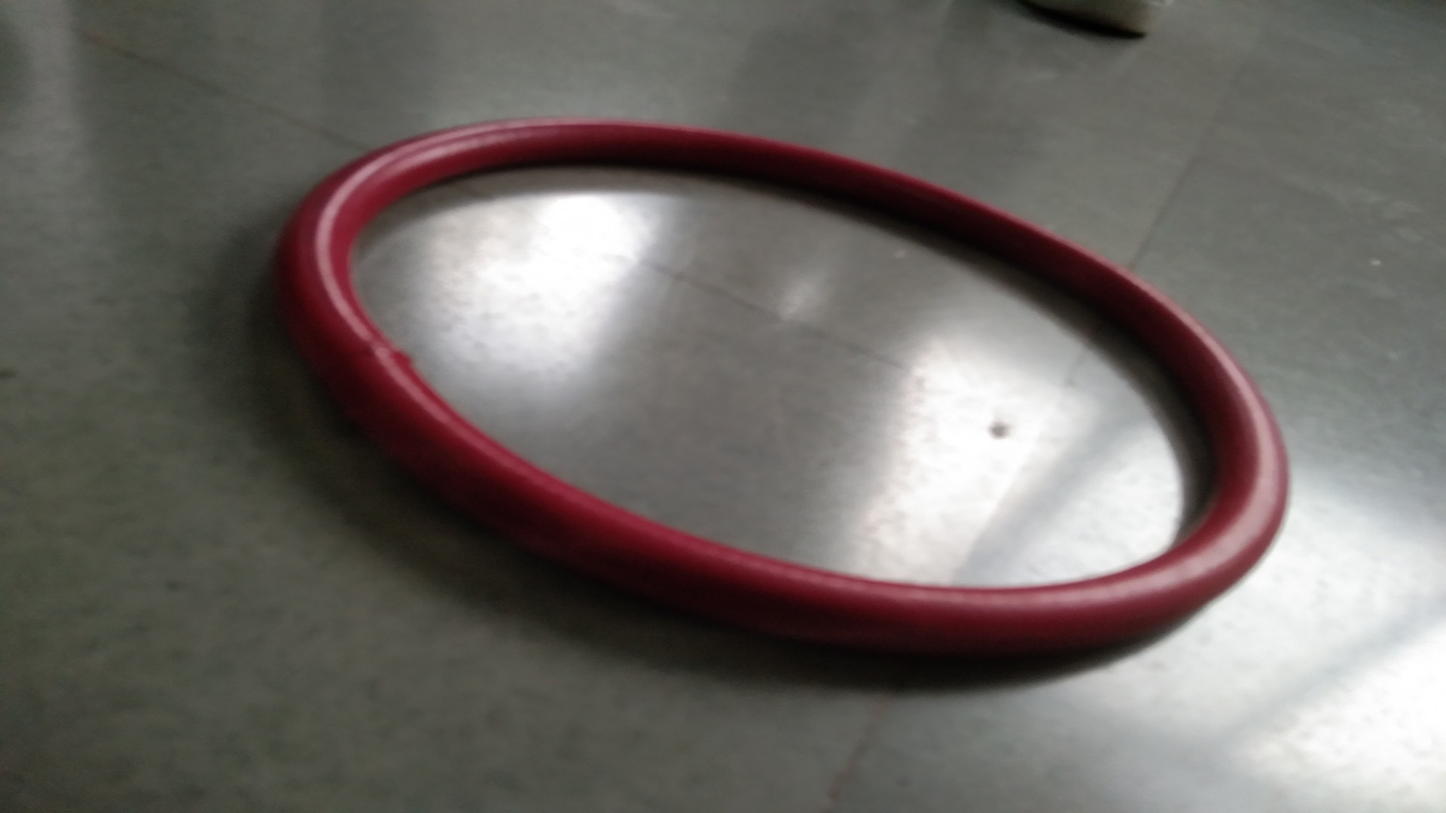Red ring: (287, 120, 1289, 653)
